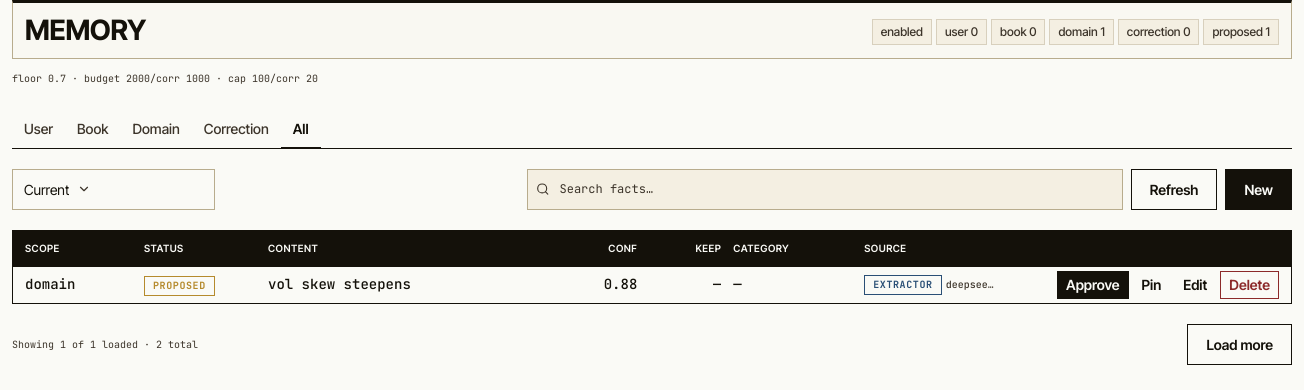
Test: MemoryLive › load more appends the next page
The width and height of the screenshot is (1304, 390).
Expected: the text "vol skew steepens" is shown, [268,275,411,293]
Click the button "Load more" at [1240, 344], box [1187,324,1292,365]
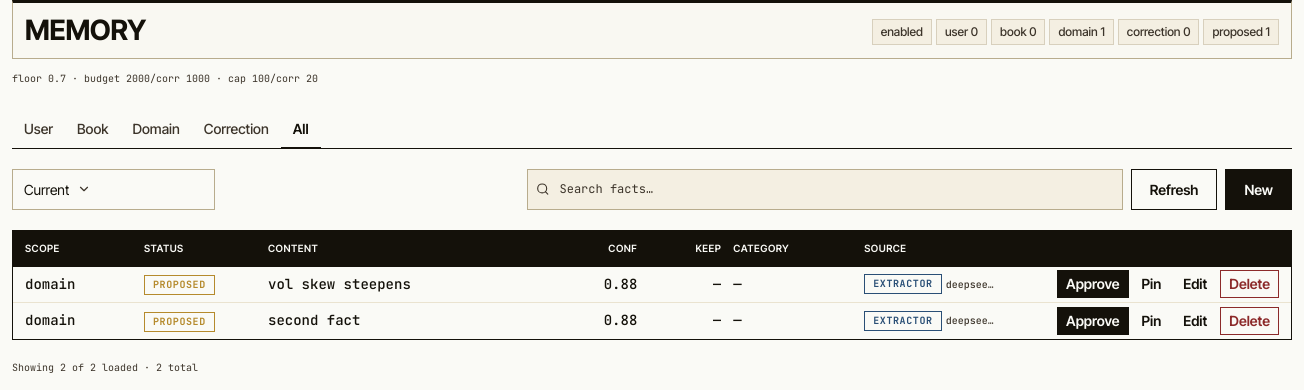
Expected: the text "second fact" is shown, [268,311,360,329]
